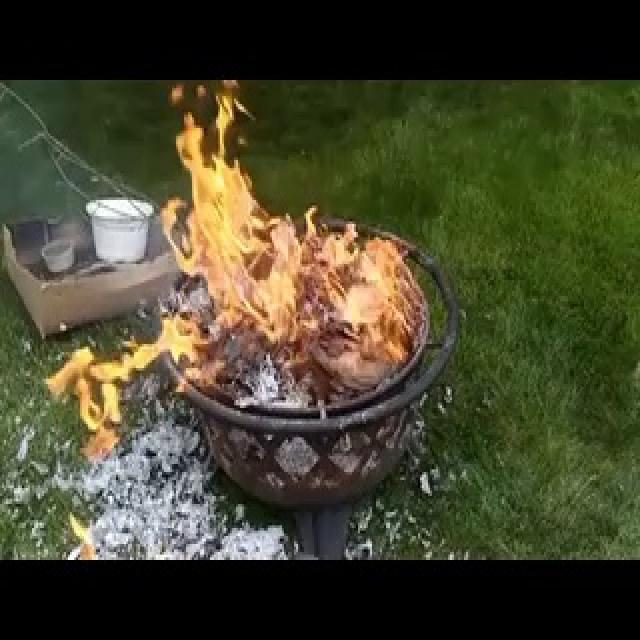fire: (128, 80, 436, 424)
